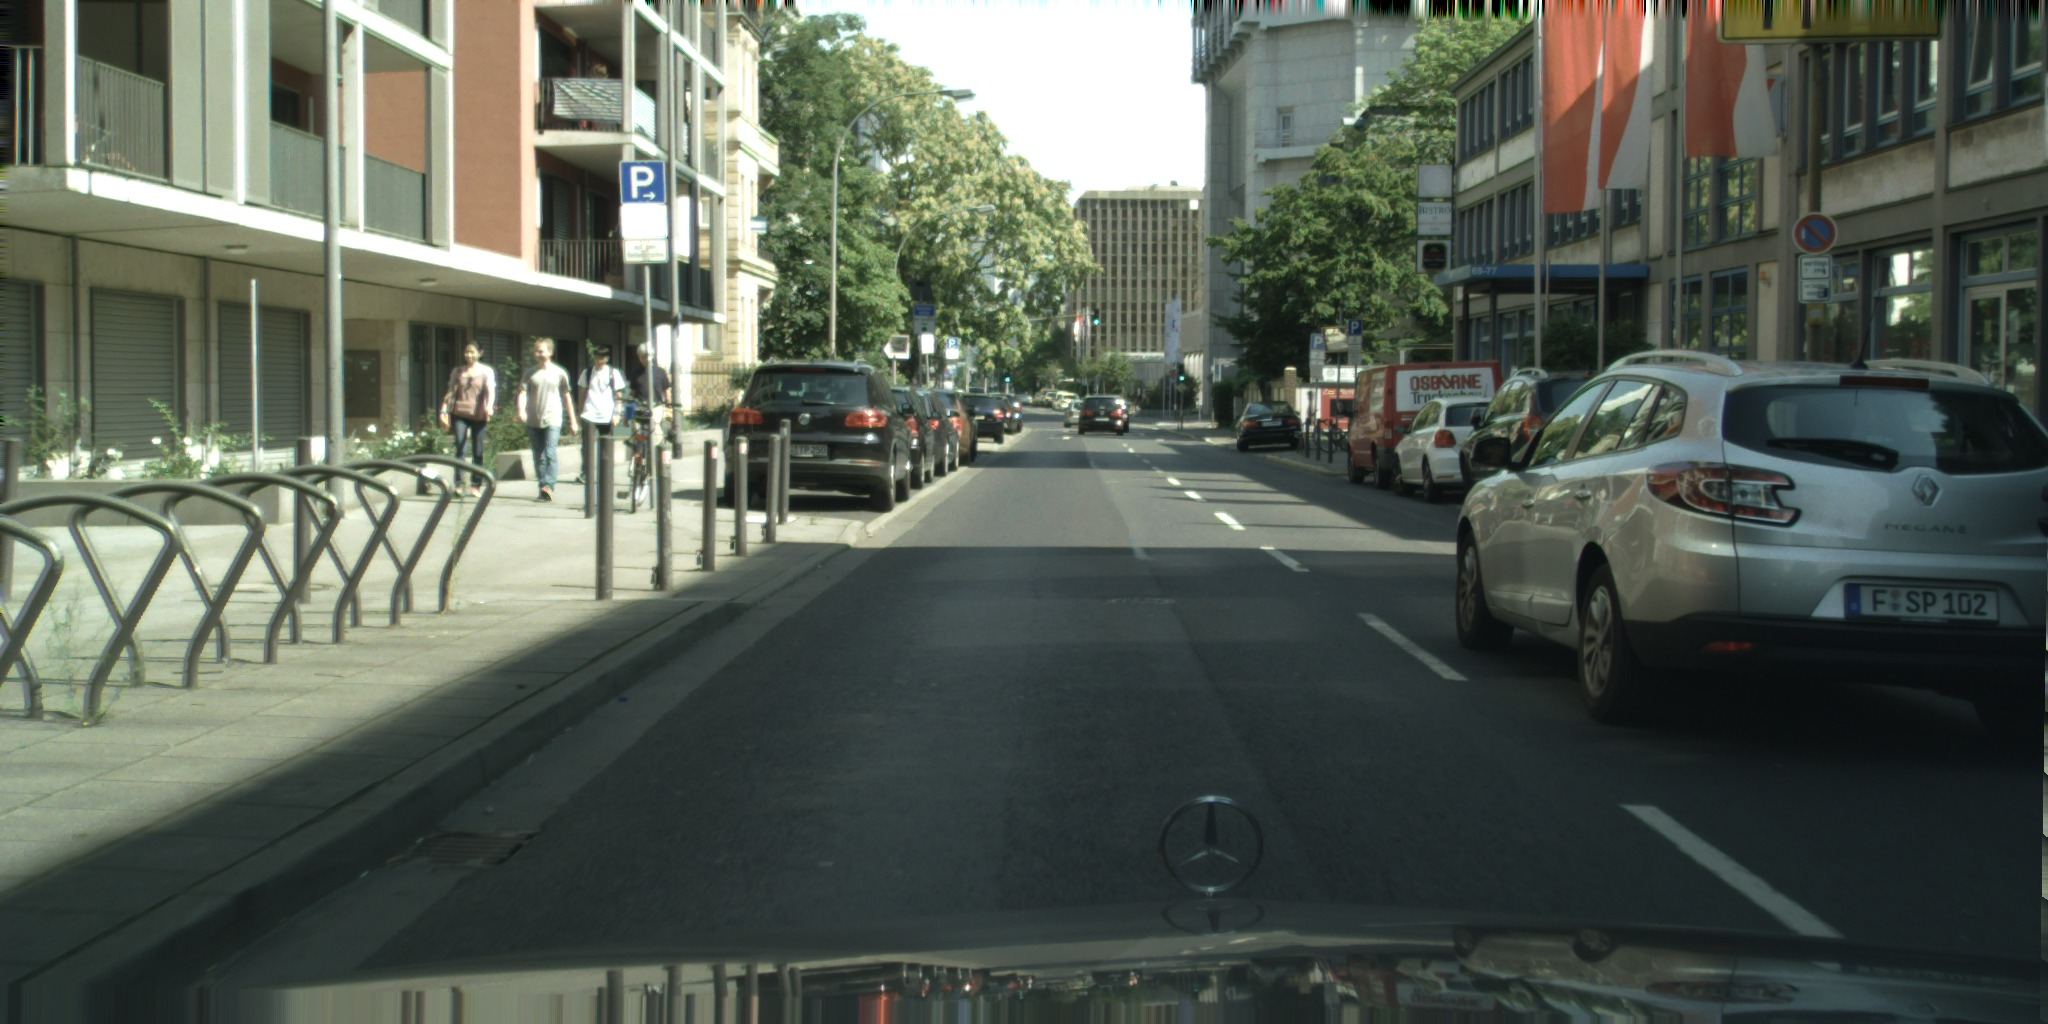bicycle: (620, 409, 651, 512), (1302, 409, 1355, 452)
car: (1454, 349, 2047, 755), (723, 357, 914, 513), (1458, 367, 1604, 510), (1344, 359, 1503, 489), (1393, 397, 1516, 502), (870, 386, 941, 488), (888, 389, 960, 477), (904, 388, 978, 463), (1235, 400, 1302, 451), (946, 393, 1003, 443), (1077, 394, 1130, 435), (985, 393, 1022, 435), (986, 393, 1018, 435), (1063, 398, 1088, 427), (1051, 390, 1078, 413), (1009, 394, 1031, 409), (964, 387, 985, 399), (1044, 392, 1058, 406)
person: (517, 338, 577, 502), (440, 340, 495, 500), (618, 343, 672, 500), (574, 348, 625, 483)
